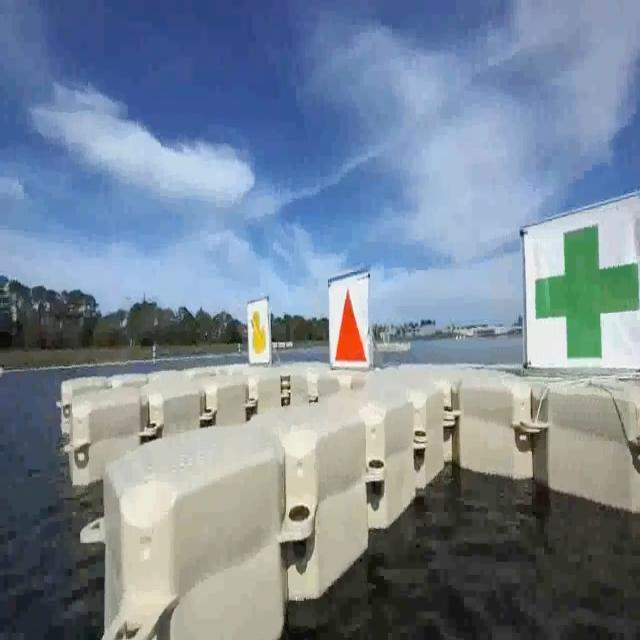blue-cross: (525, 212, 640, 380)
red-dot: (331, 279, 367, 362)
yellow-duck: (244, 297, 268, 353)
